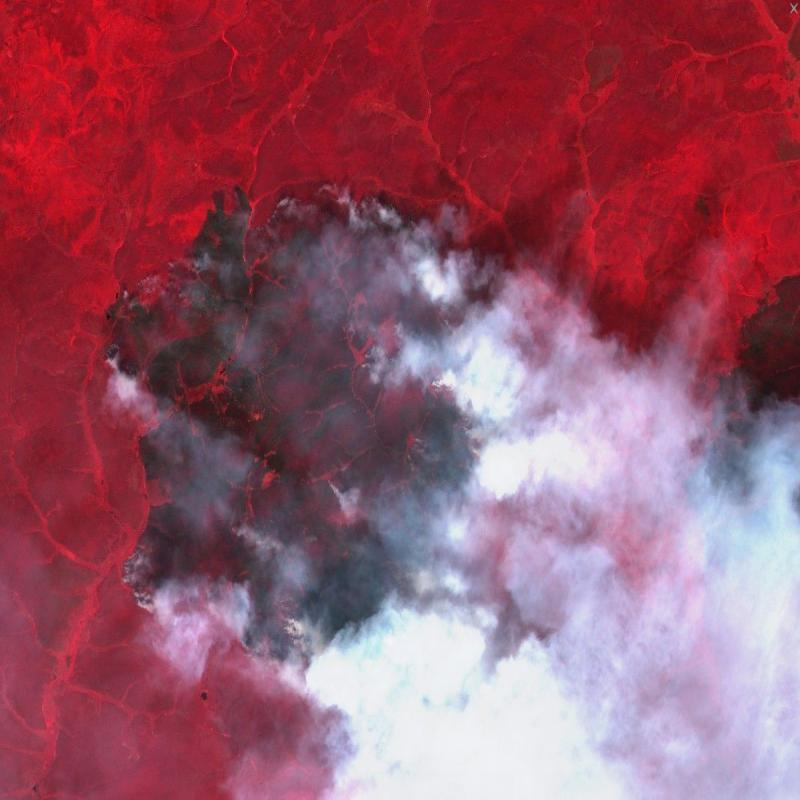fire: (102, 170, 503, 779)
